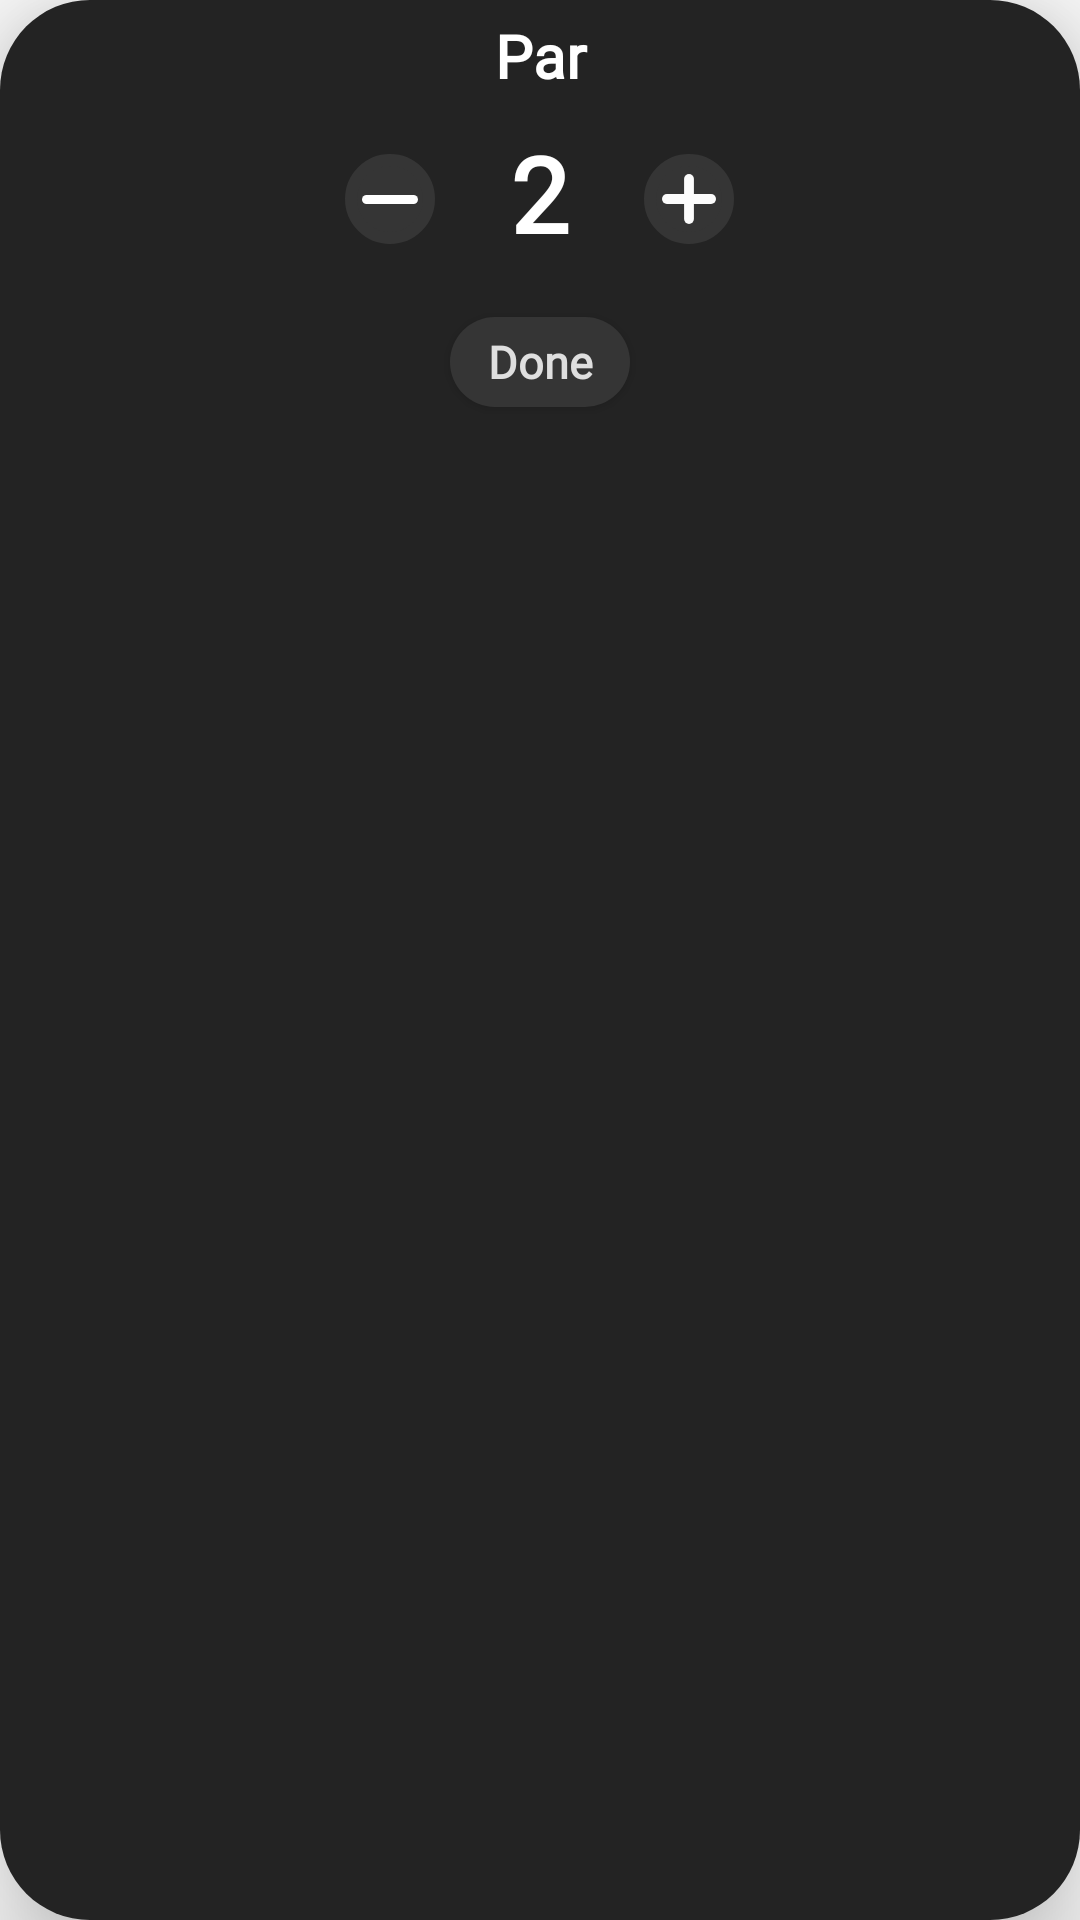

Screen size 1080×1920. Icon name, then its box in pixels as (x1, y1, x2, y2):
add: (644, 154, 734, 244)
